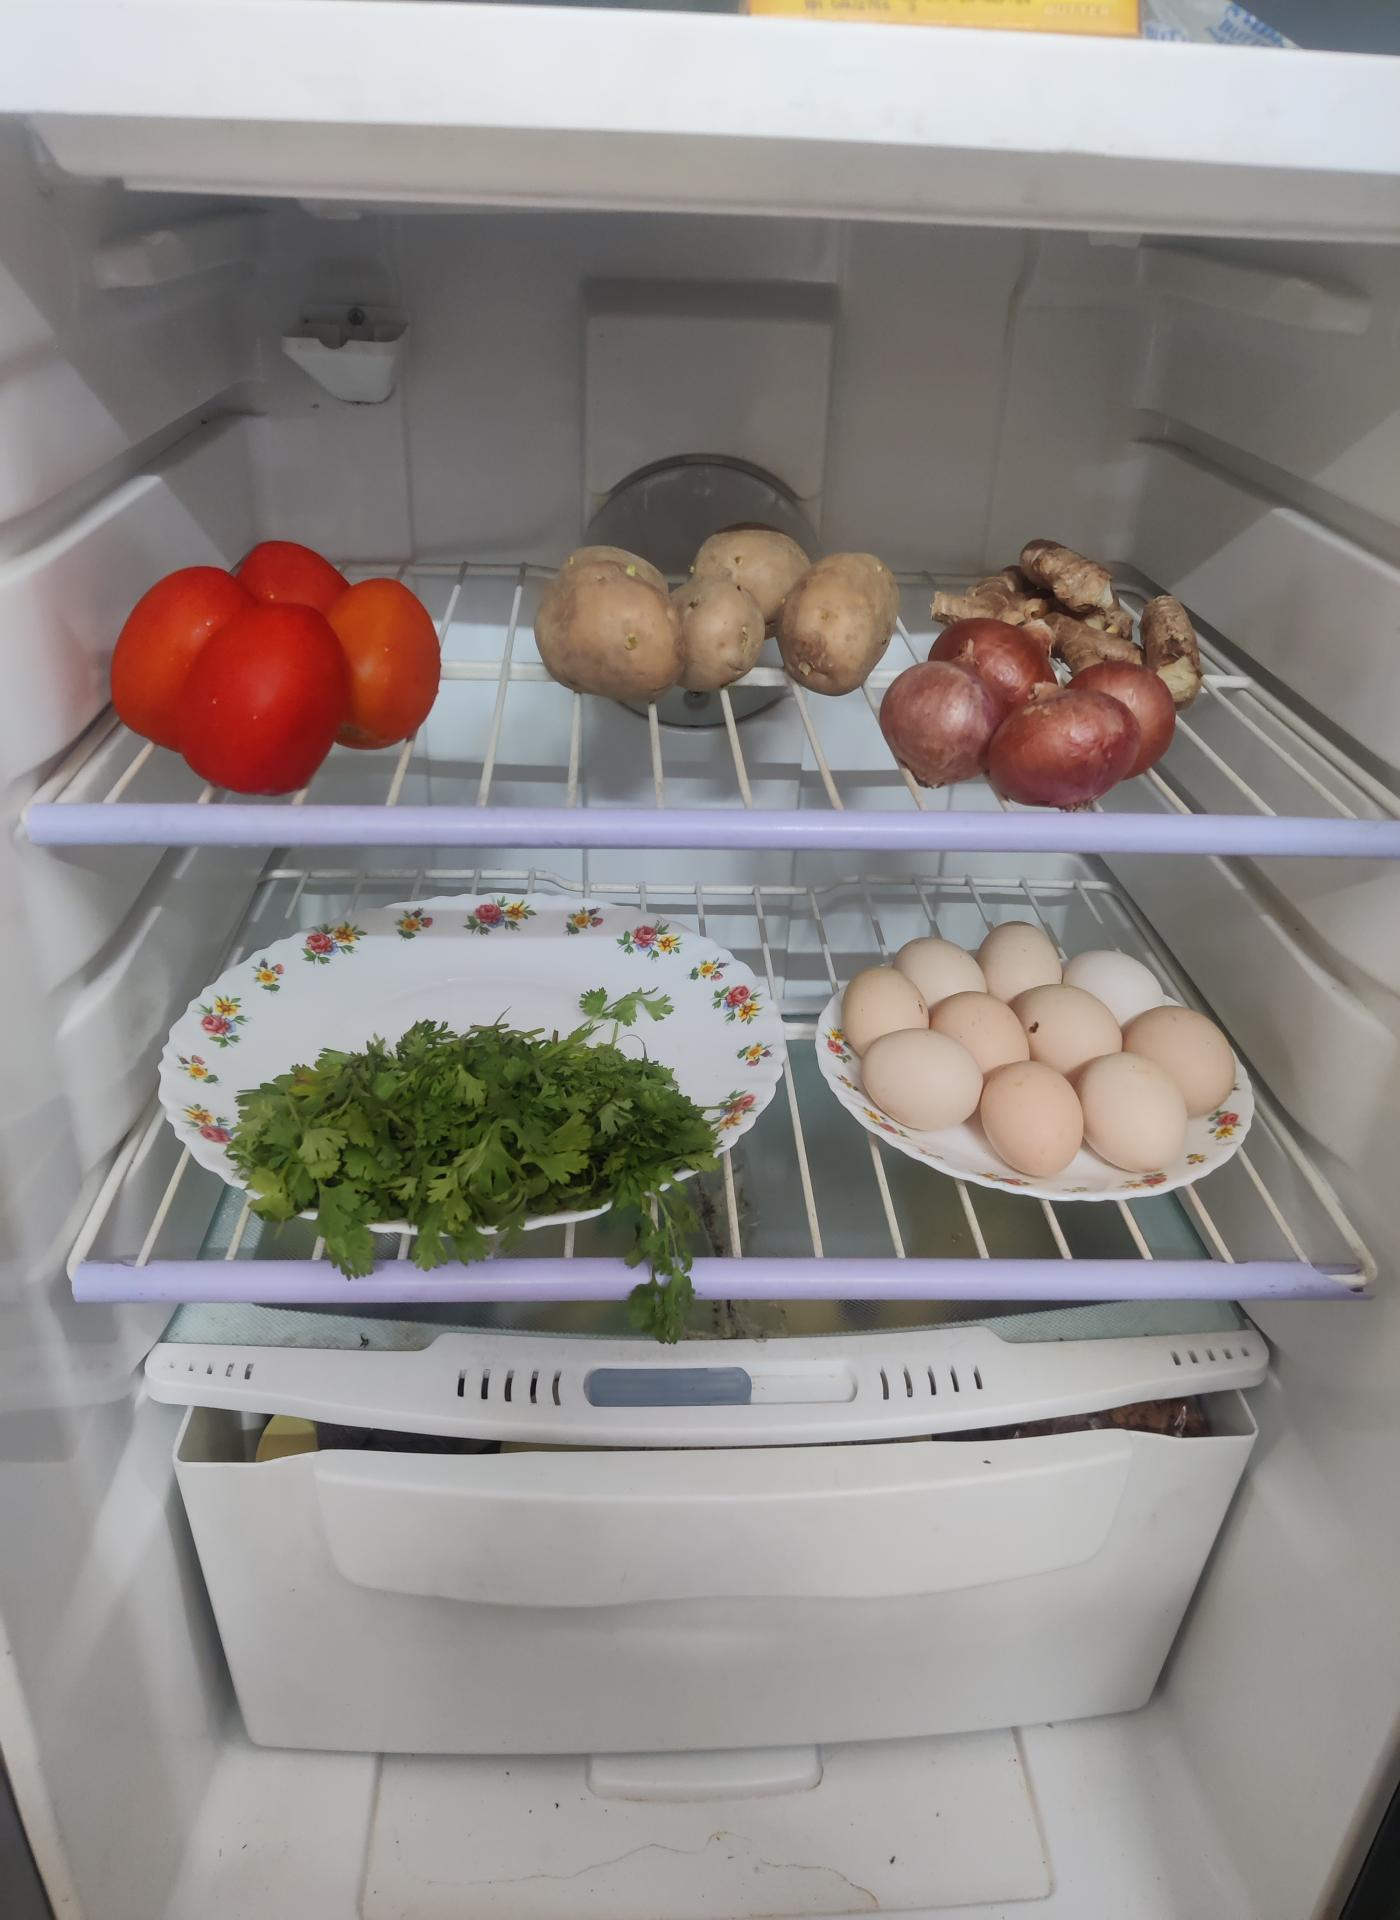coriander: (230, 1018, 728, 1243)
egg: (850, 932, 1245, 1199)
ginger: (929, 544, 1211, 675)
onion: (893, 626, 1163, 802)
potato: (537, 525, 904, 714)
tomato: (113, 532, 444, 787)
